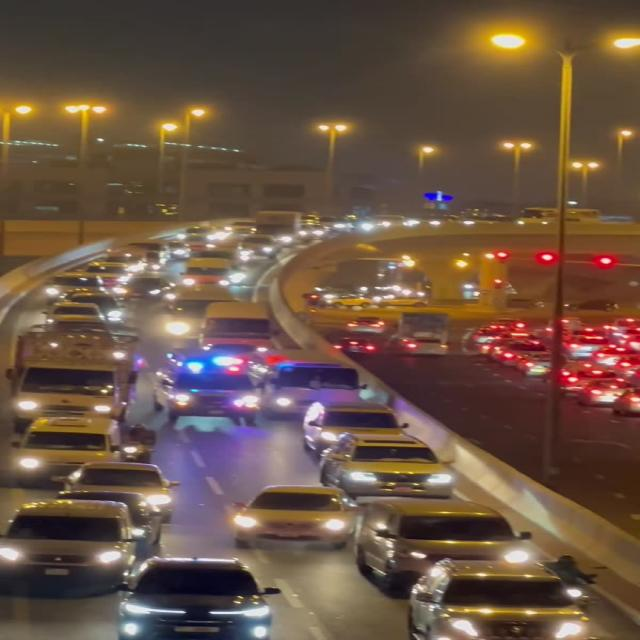ambulance: (154, 347, 270, 426)
